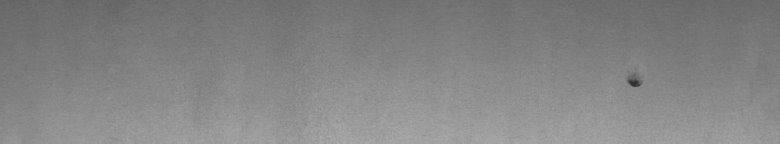fi: (624, 70, 646, 96)
